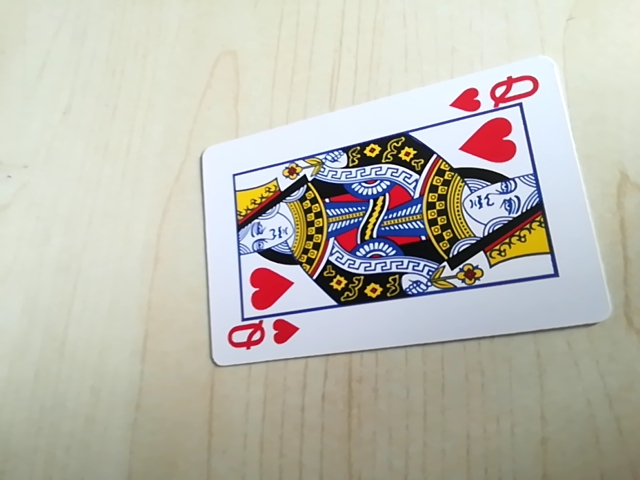hx q: (449, 69, 548, 119), (225, 314, 304, 361)
